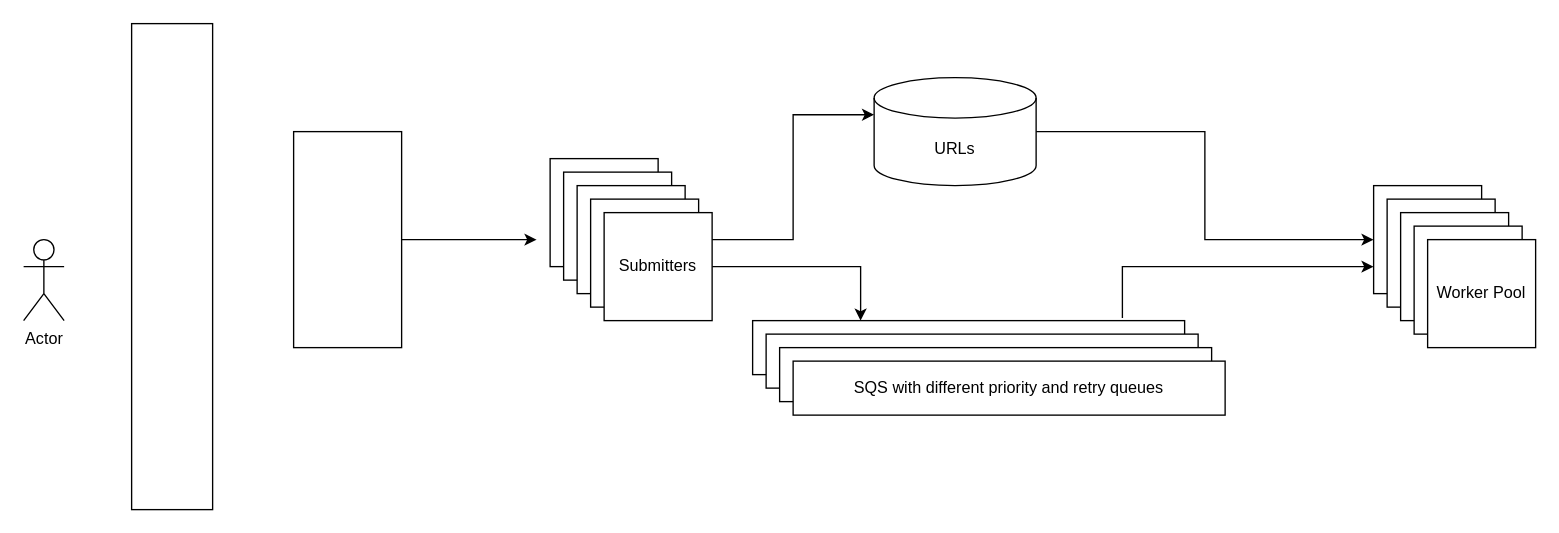
This 1559x533 diagram has some shape labels left out. The shapes that lost their labels are listed below. From the top down, each one's centre as x and y in pixels, then its label:
At point (347, 239): "Gateway".
At point (171, 266): "Load Balancer(s)".
